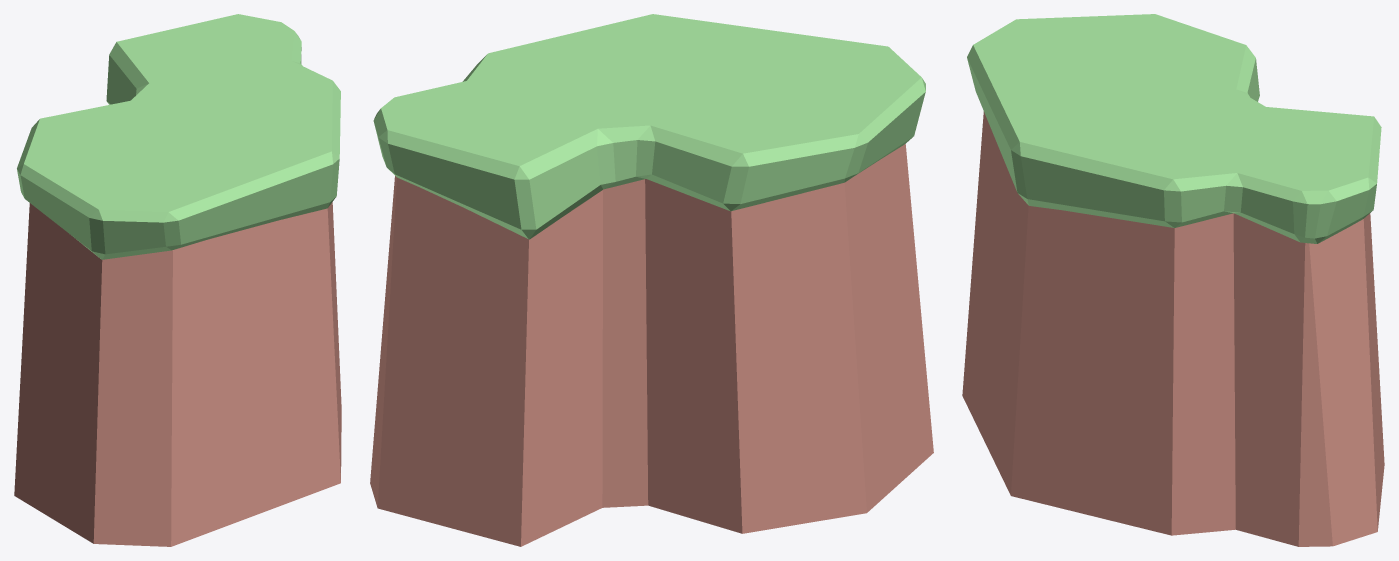
Rendered from Plane_007_Vlad.fbx.
The picture shows the model from 3 angles, left to right: view 1: azimuth 30°, elevation 25°; view 2: azimuth 150°, elevation 25°; view 3: azimuth 270°, elevation 25°; orthographic projection. The views are drawn at different scales.
Visible parts, largest first — view 1: Plane.007; view 2: Plane.007; view 3: Plane.007.
Boxes of the visible parts, x1,y1,x2,y2 form: Plane.007: (14, 14, 341, 546); Plane.007: (370, 14, 933, 546); Plane.007: (962, 14, 1384, 546).
Size of the model in its own units: 236 by 210 by 228.
